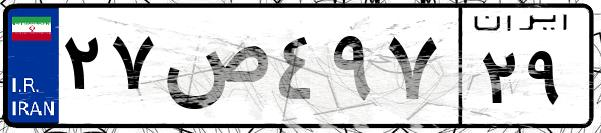2: (57, 26, 110, 100), (475, 38, 525, 113)
4: (270, 28, 330, 110)
7: (385, 28, 445, 110), (110, 28, 158, 98)
9: (330, 28, 385, 110), (525, 38, 570, 115)
ص: (158, 20, 270, 120)
